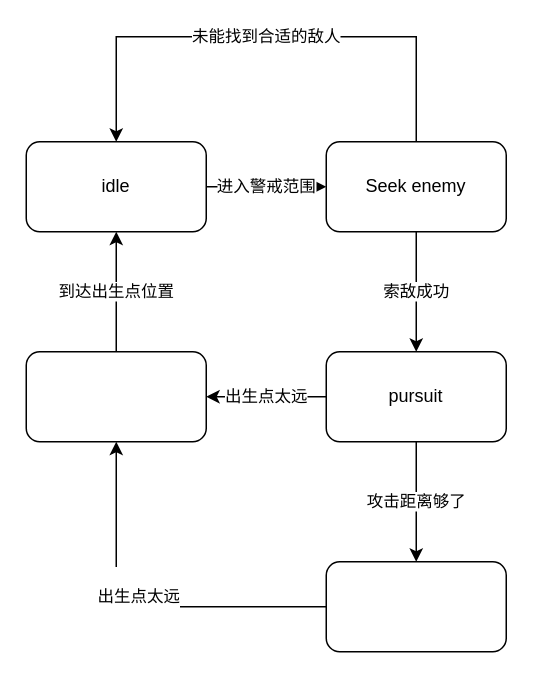
Image size: 533x678. Some labels were removed from this diagram. Here are the shapes that lost their labels. From the top down, the centre of each, then its label:
At (115,396): "Go home".
At (415,606): "attack".
